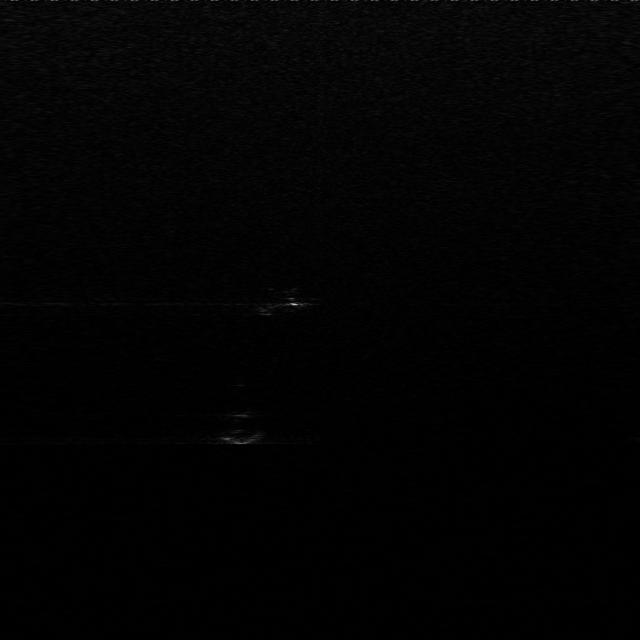ball: (206, 403, 272, 451)
tyre: (252, 284, 327, 322)
